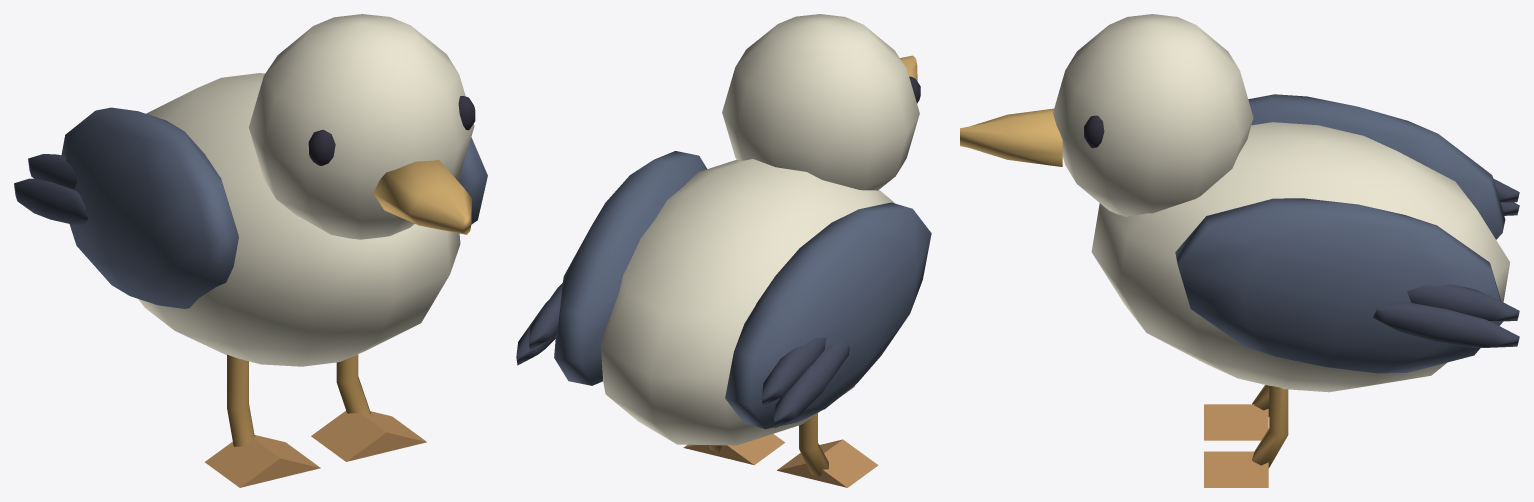
File: seagull.glb
3 views of the same model, side by side, from view 1: azimuth 30°, elevation 25°; view 2: azimuth 150°, elevation 25°; view 3: azimuth 270°, elevation 25° (orthographic). The views are drawn at different scales.
Visible parts, largest first — view 1: seagull; view 2: seagull; view 3: seagull.
Boxes of the visible parts, <box> form: seagull: <box>14,14,487,487</box>; seagull: <box>516,14,931,487</box>; seagull: <box>960,14,1519,487</box>.
Size of the model in its own units: 0.22 by 0.3 by 0.36.
